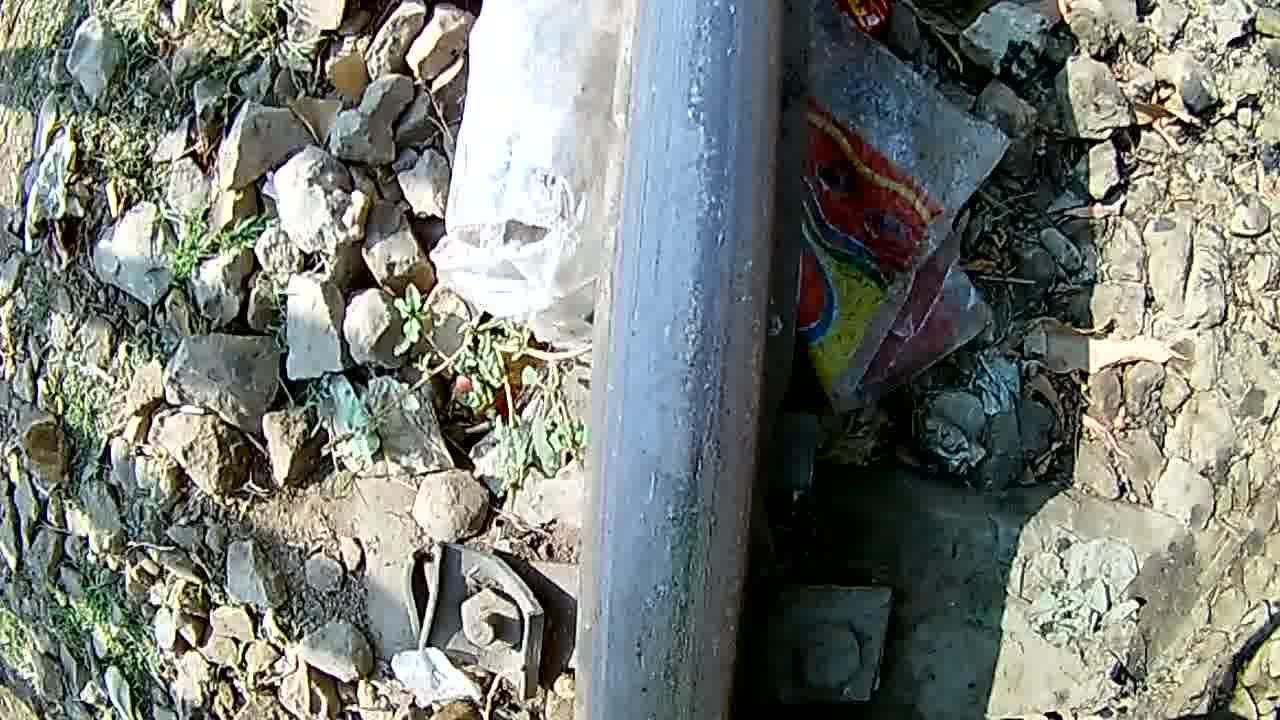crack: (611, 0, 762, 720)
